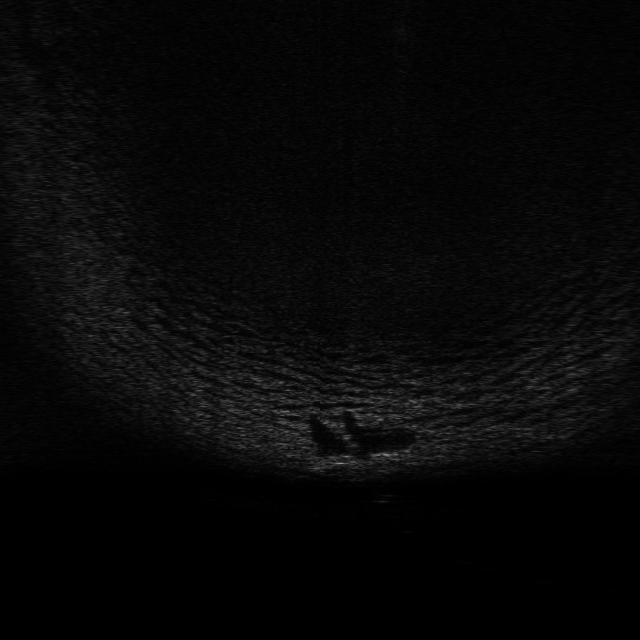plane: (304, 448, 396, 477)
